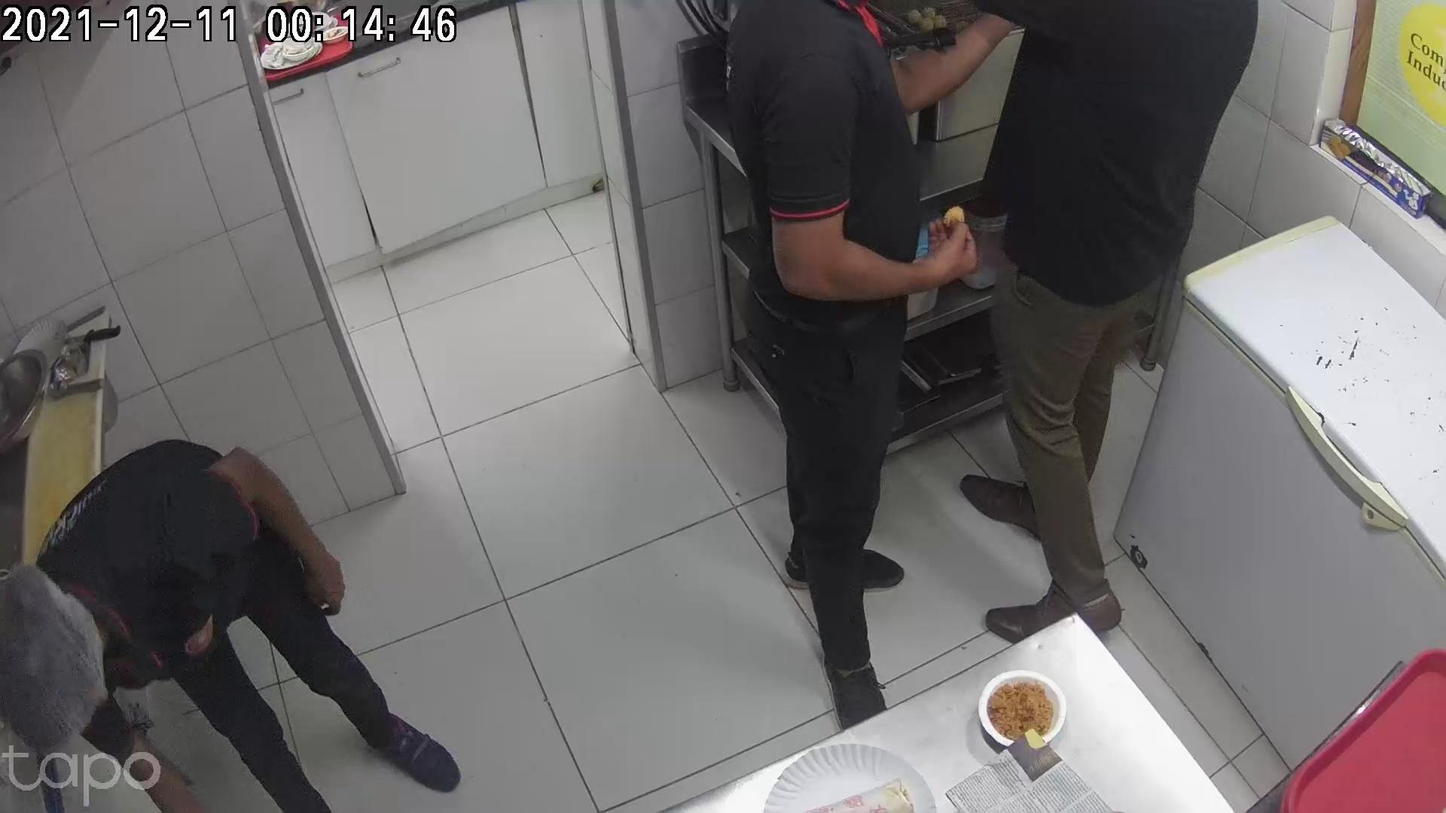no_gloves: (263, 681, 416, 805)
